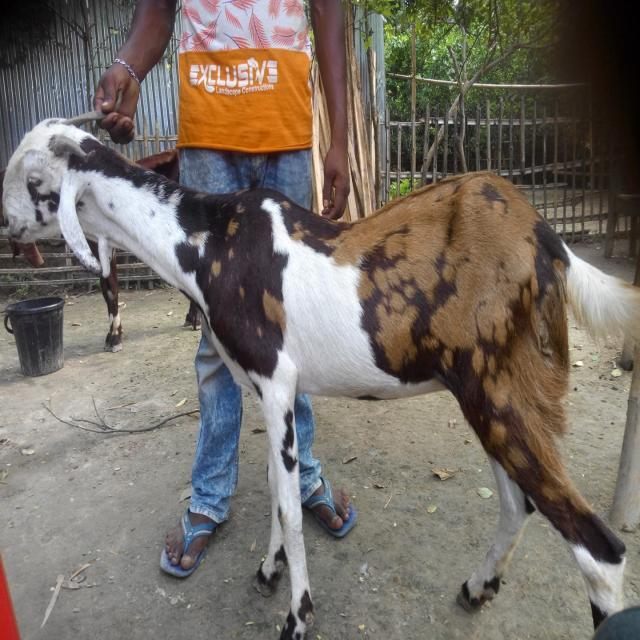Goat: (2, 109, 639, 639)
